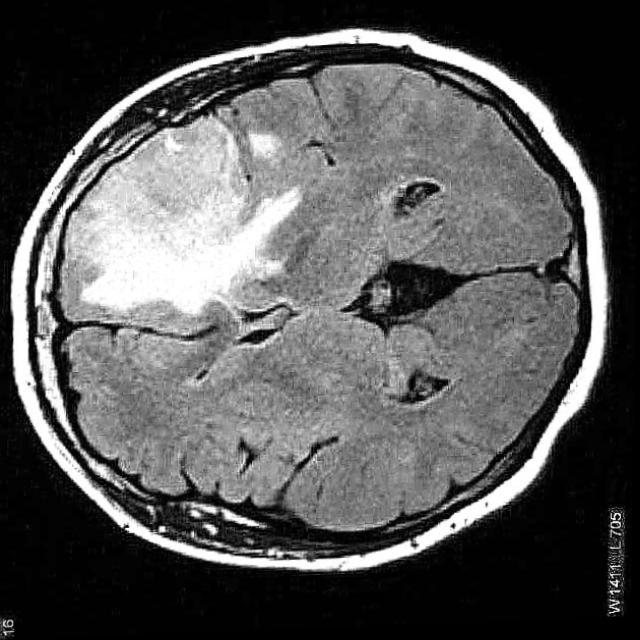Tumor: (70, 114, 303, 317)
